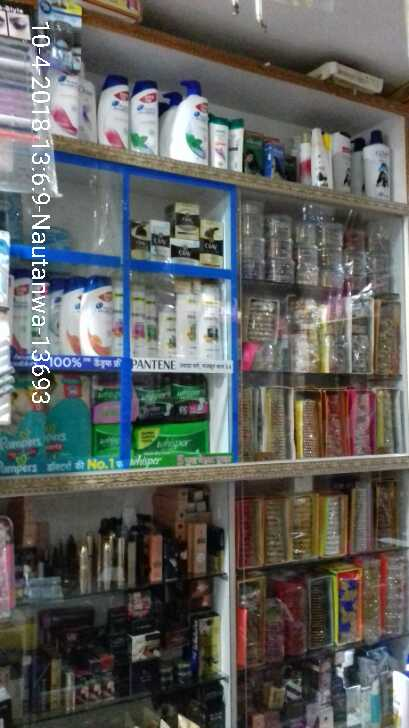ambipureVesus: (40, 1, 82, 68)
venus: (1, 182, 23, 240), (48, 228, 72, 246)
